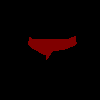mutande: (28, 35, 77, 60)
